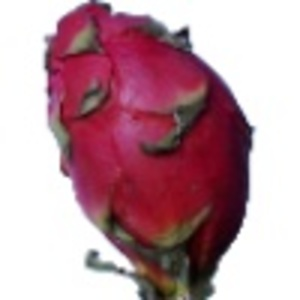pitaia: (43, 1, 258, 300)
